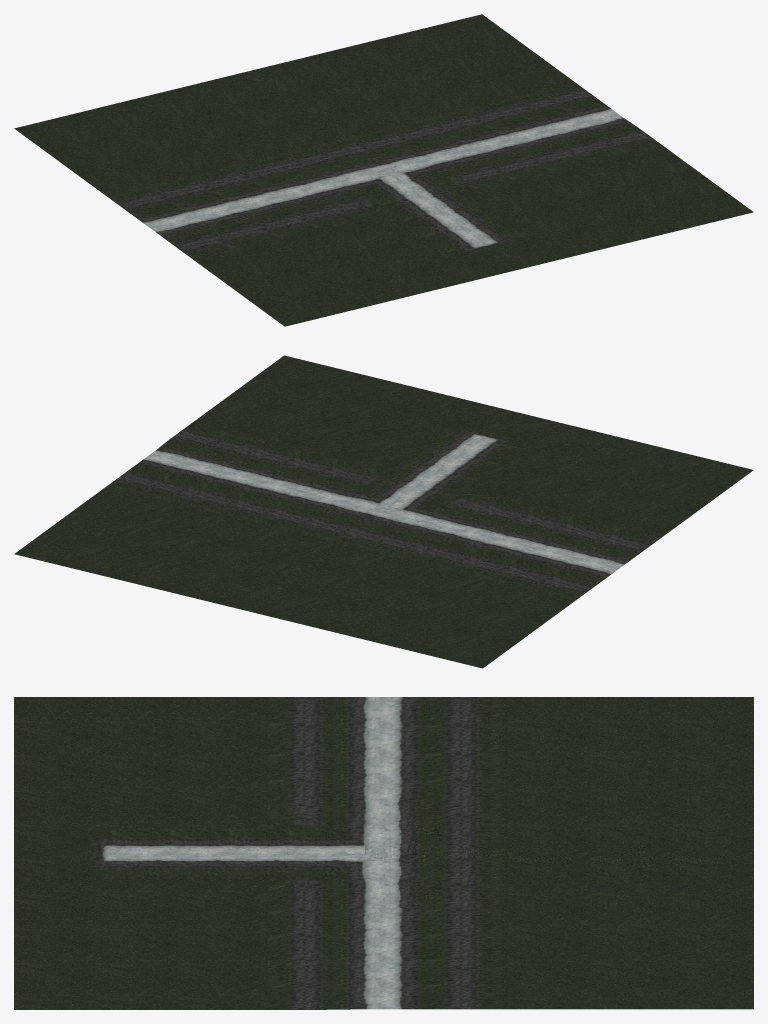
The model's file is SM_EC_Ground_Tile_04.fbx.
3 renders of one model, top to bottom at view 1: azimuth 30°, elevation 25°; view 2: azimuth 150°, elevation 25°; view 3: azimuth 270°, elevation 25°, orthographic. The views are drawn at different scales.
Parts seen in each view (by area): view 1: SM_EC_Ground_Tile_04; view 2: SM_EC_Ground_Tile_04; view 3: SM_EC_Ground_Tile_04.
Part boxes in pixels (x1,y1,x2,y2): SM_EC_Ground_Tile_04: [14, 14, 753, 326]; SM_EC_Ground_Tile_04: [14, 355, 753, 668]; SM_EC_Ground_Tile_04: [14, 697, 753, 1009].
Bounding box in the file's own units: 37.5 × 37.5 × 0.
